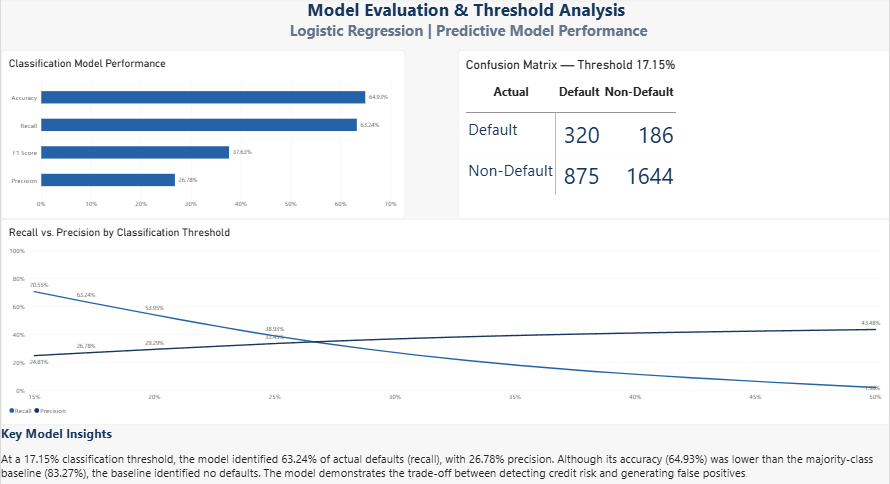

The dashboard page shown, as its layout file describes it:
{"tool":"powerbi","page":{"name":"Model Evaluation & Threshold Analysis","canvas":[1920,1080],"ordinal":2},"visuals":[{"type":"lineChart","title":"Recall vs. Precision by Classification Threshold","fields":{"Category":["Threshold_Comparison.Threshold"],"Y":["Sum(Threshold_Comparison.Recall)"],"Y2":["Sum(Threshold_Comparison.Precision)"]},"box":[0,480,1920,445],"z":0},{"type":"pivotTable","title":"Confusion Matrix — Threshold 17.15%","fields":{"Columns":["Confusion_Matrix.Predicted"],"Rows":["Confusion_Matrix.Actual"],"Values":["Sum(Confusion_Matrix.Count)"]},"box":[987.5,115,932.5,365],"z":1000},{"type":"textbox","box":[0,925,1920,155],"z":2000},{"type":"clusteredBarChart","title":"Classification Model Performance","fields":{"Category":["Model_Performance.Metric"],"Y":["Sum(Model_Performance.Value)"]},"box":[0,115,872.5,365],"z":3000},{"type":"textbox","box":[0,0,873,325],"z":4000},{"type":"textbox","box":[555,0,910,115],"z":5000}]}

Visuals, with their boxes on the page's 1920x1080 design canvas (x1, y1, x2, y2). These are canvas units, not pixel positions in the 890x484 screenshot, which may show the page scaled, cropped or inside an application window:
"Recall vs. Precision by Classification Threshold" lineChart: {"x1": 0, "y1": 480, "x2": 1920, "y2": 925}
"Confusion Matrix — Threshold 17.15%" pivotTable: {"x1": 988, "y1": 115, "x2": 1920, "y2": 480}
textbox: {"x1": 0, "y1": 925, "x2": 1920, "y2": 1080}
"Classification Model Performance" clusteredBarChart: {"x1": 0, "y1": 115, "x2": 872, "y2": 480}
textbox: {"x1": 0, "y1": 0, "x2": 873, "y2": 325}
textbox: {"x1": 555, "y1": 0, "x2": 1465, "y2": 115}
